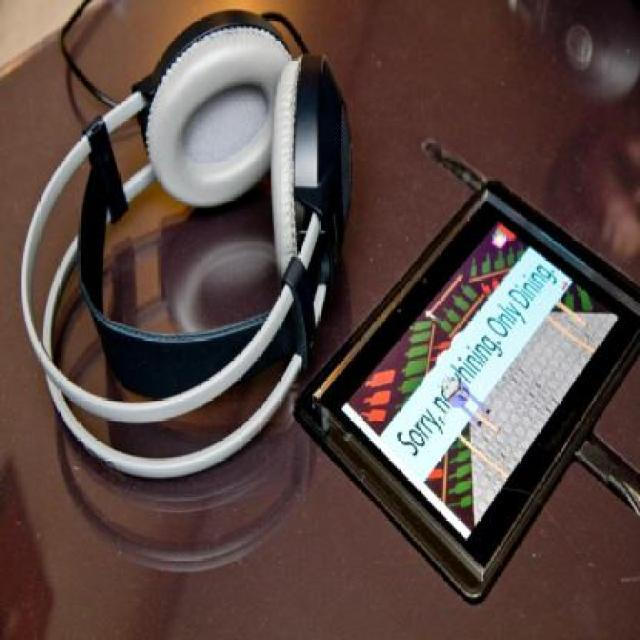earphone: (62, 14, 305, 474)
tablet: (338, 196, 632, 546)
